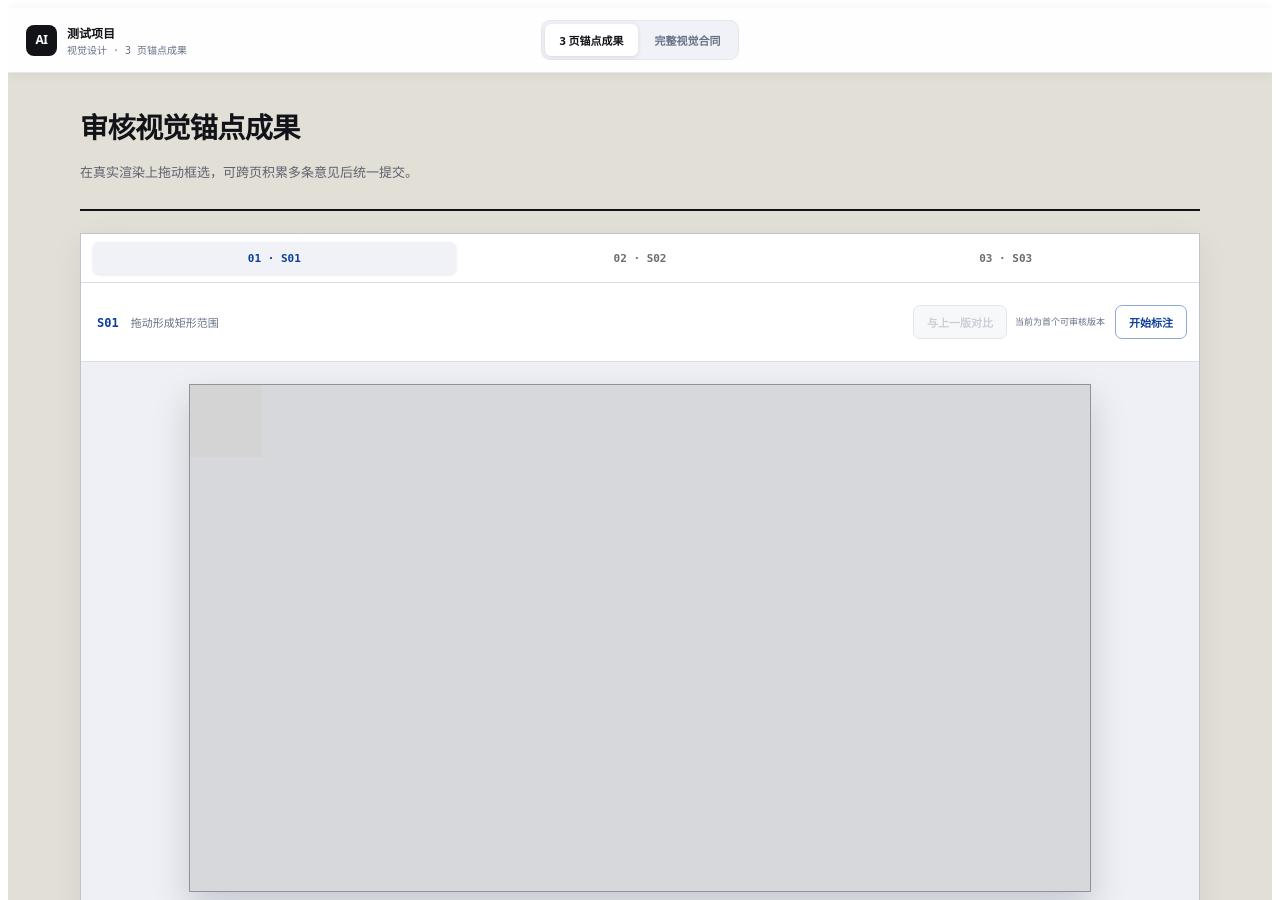
Scenario: visual professional review surface › rejects a persisted null-region anchor composer instead of restoring an invisible global lock
Click the button "开始标注".
click(1151, 322)  # box [1115,305,1187,339]
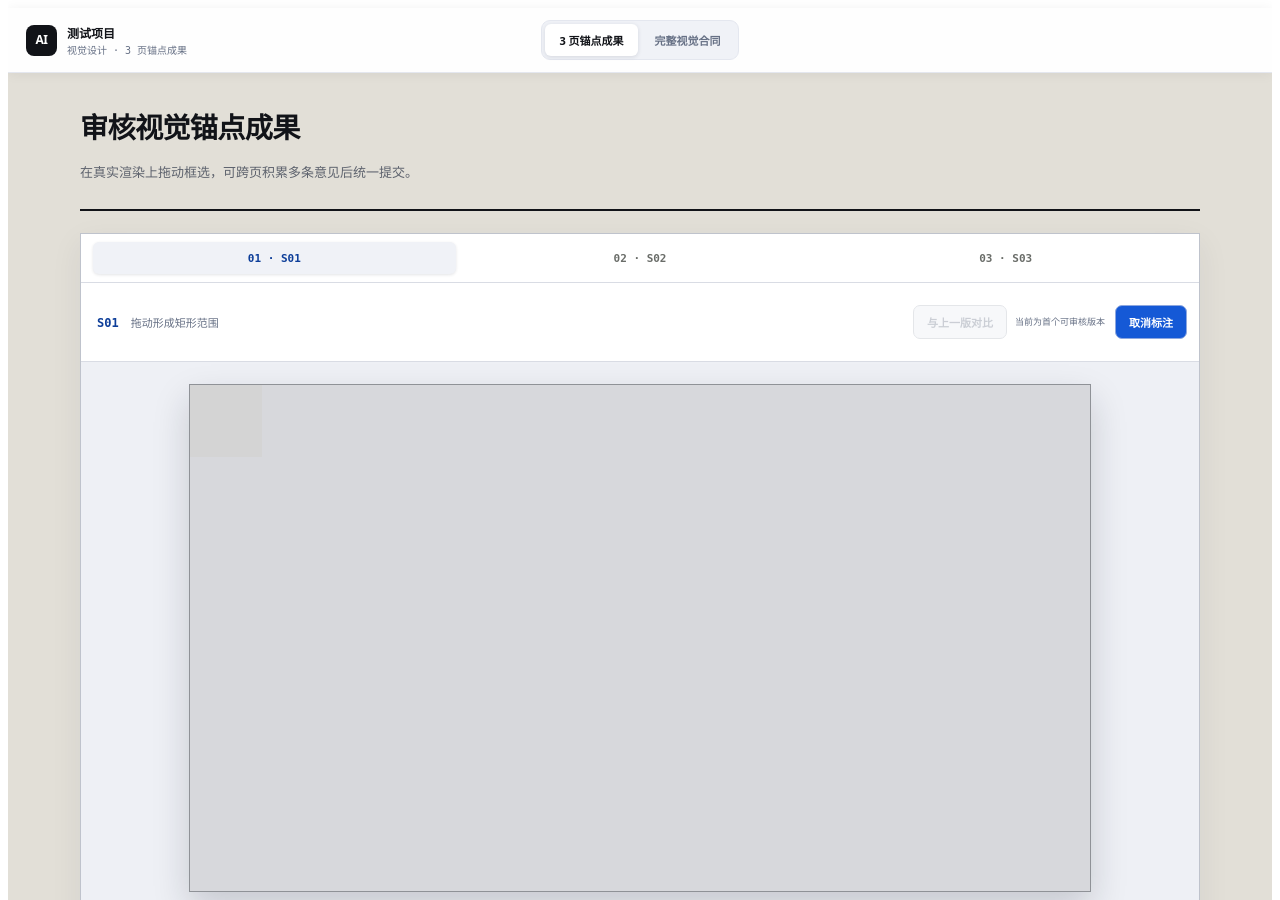
Check: the button "取消标注" is shown, box [1115,305,1187,339]
